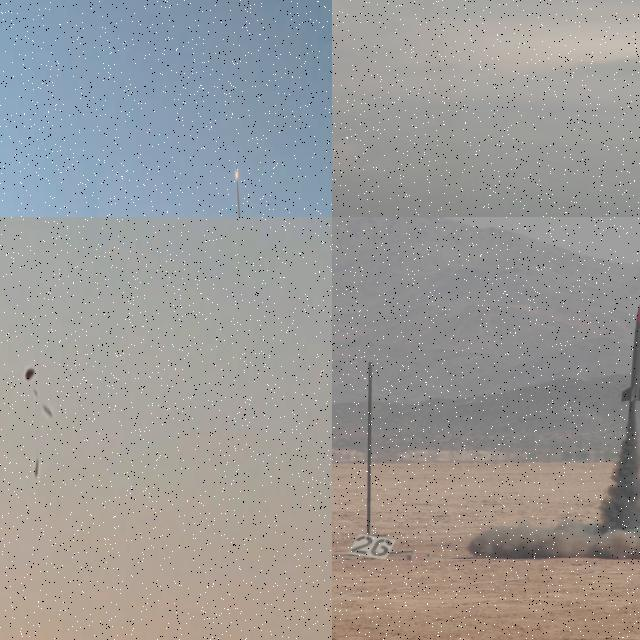Rocket: (620, 299, 640, 404), (34, 458, 38, 476), (236, 166, 237, 171)
